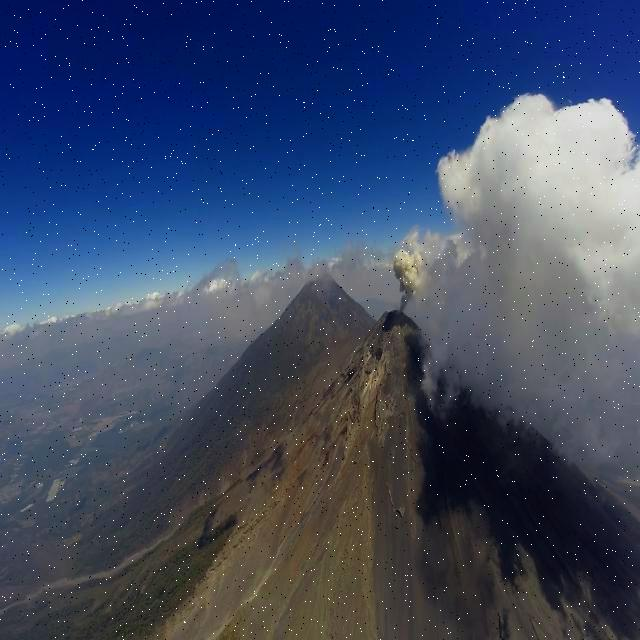Plume: (392, 246, 426, 310)
Summit: (322, 303, 438, 399)
